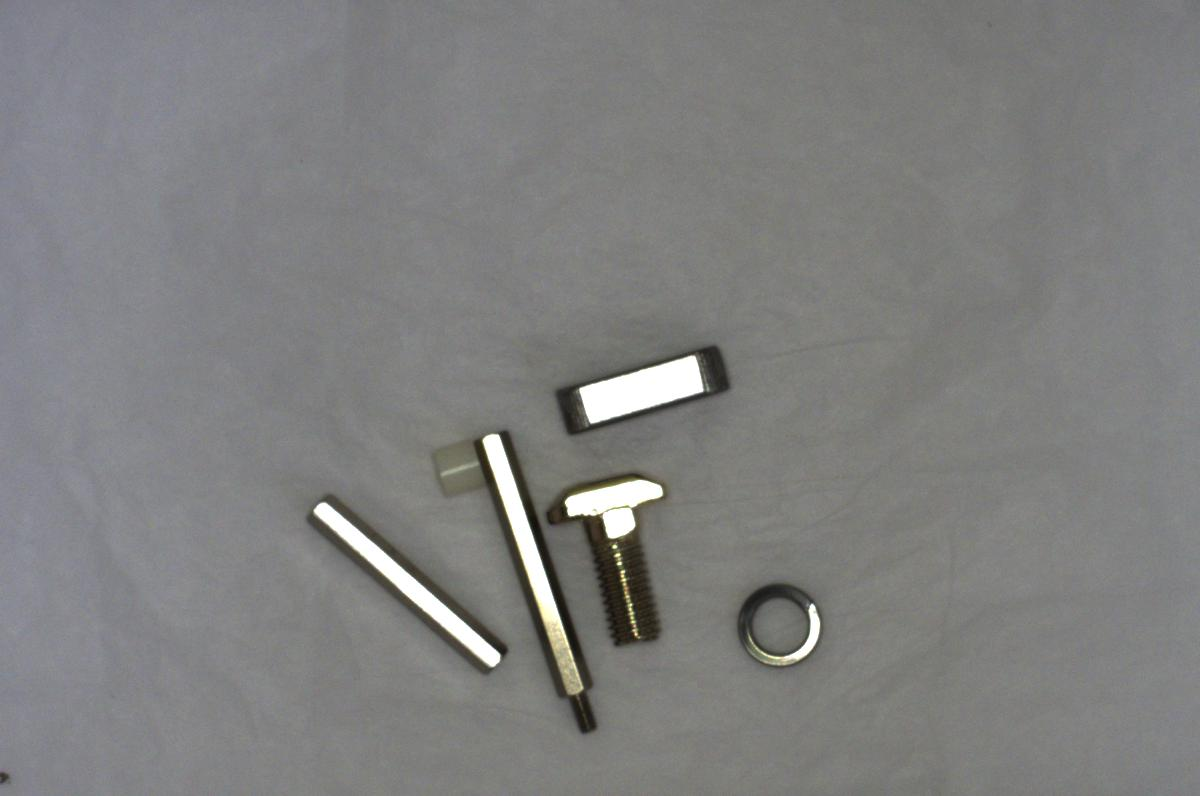Double hexagonal column: (293, 494, 508, 678)
Hexagonal steel column: (475, 418, 601, 735)
Keybar: (552, 328, 741, 445)
Plastic cushion pillar: (421, 423, 485, 506)
Spring washer: (732, 565, 832, 678)
T-shaped screw: (552, 463, 680, 658)
